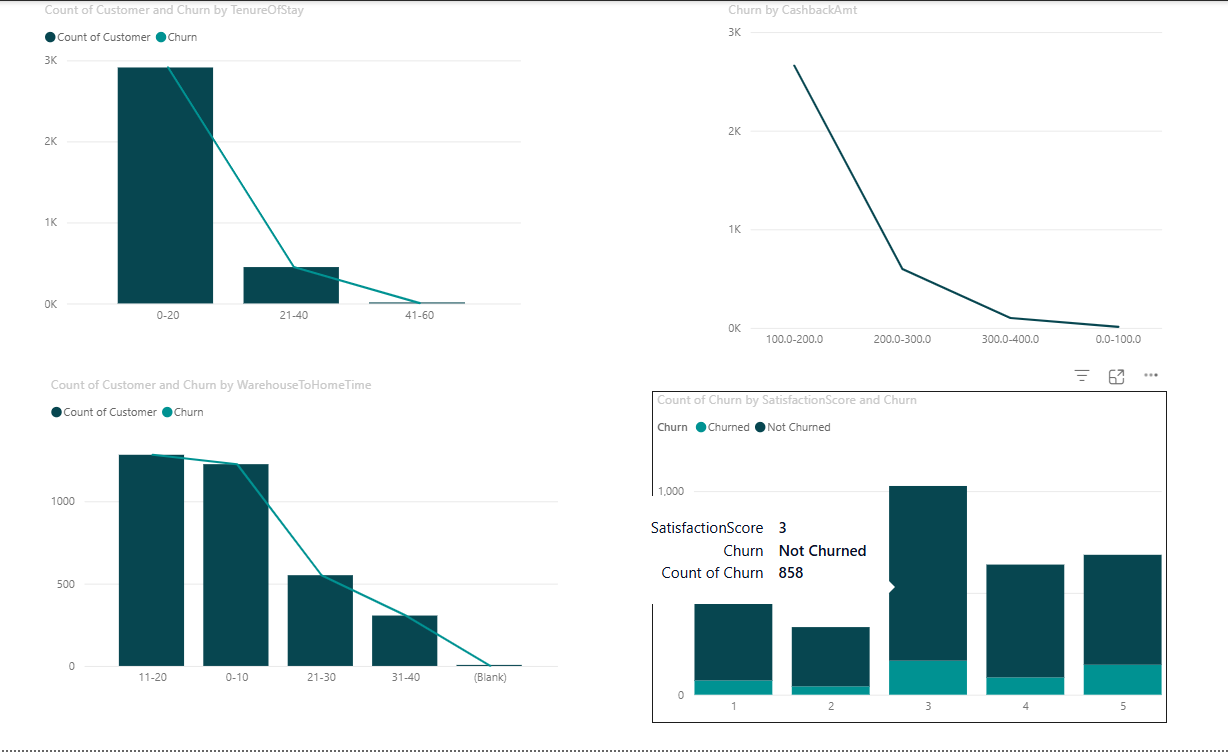

The dashboard page shown, as its layout file describes it:
{"tool":"powerbi","page":{"name":"Customer Behavior Analysis","canvas":[1280,720],"ordinal":1},"visuals":[{"type":"lineClusteredColumnComboChart","fields":{"Category":["data_ecommerce_customer_churn.TenureOfStay"],"Y":["data_ecommerce_customer_churn.customercount"],"Y2":["CountNonNull(data_ecommerce_customer_churn.Churn)"]},"box":[136.9,0,467.1,318.2],"z":0},{"type":"lineClusteredColumnComboChart","fields":{"Category":["data_ecommerce_customer_churn.WarehouseToHomeTime"],"Y":["data_ecommerce_customer_churn.customercount"],"Y2":["CountNonNull(data_ecommerce_customer_churn.Churn)"]},"box":[142.9,360.2,497.1,306.2],"z":1000},{"type":"lineChart","fields":{"Category":["data_ecommerce_customer_churn.CashbackAmt"],"Y":["CountNonNull(data_ecommerce_customer_churn.Churn)"]},"box":[793.7,0,426.3,342.2],"z":2000},{"type":"columnChart","fields":{"Series":["data_ecommerce_customer_churn.Churn"],"Y":["CountNonNull(data_ecommerce_customer_churn.Churn)"],"Category":["data_ecommerce_customer_churn.SatisfactionScore"]},"box":[725.3,374.6,494.7,319.4],"z":3000}]}

Visuals, with their boxes on the page's 1280x720 design canvas (x1, y1, x2, y2). These are canvas units, not pixel positions in the 1228x752 screenshot, which may show the page scaled, cropped or inside an application window:
lineClusteredColumnComboChart - data_ecommerce_customer_churn.TenureOfStay x data_ecommerce_customer_churn.customercount: 137, 0, 604, 318
lineClusteredColumnComboChart - data_ecommerce_customer_churn.WarehouseToHomeTime x data_ecommerce_customer_churn.customercount: 143, 360, 640, 666
lineChart - data_ecommerce_customer_churn.CashbackAmt x CountNonNull(data_ecommerce_customer_churn.Churn): 794, 0, 1220, 342
columnChart - data_ecommerce_customer_churn.Churn x CountNonNull(data_ecommerce_customer_churn.Churn): 725, 375, 1220, 694
